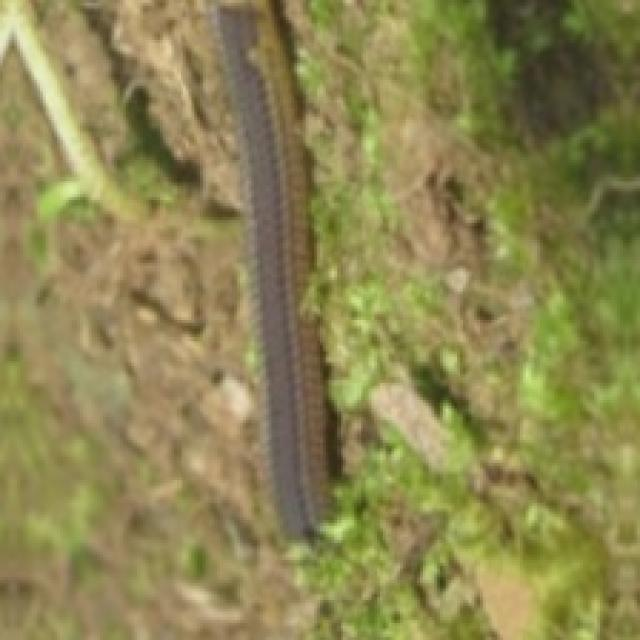gervais worm snake: (214, 0, 326, 534)
